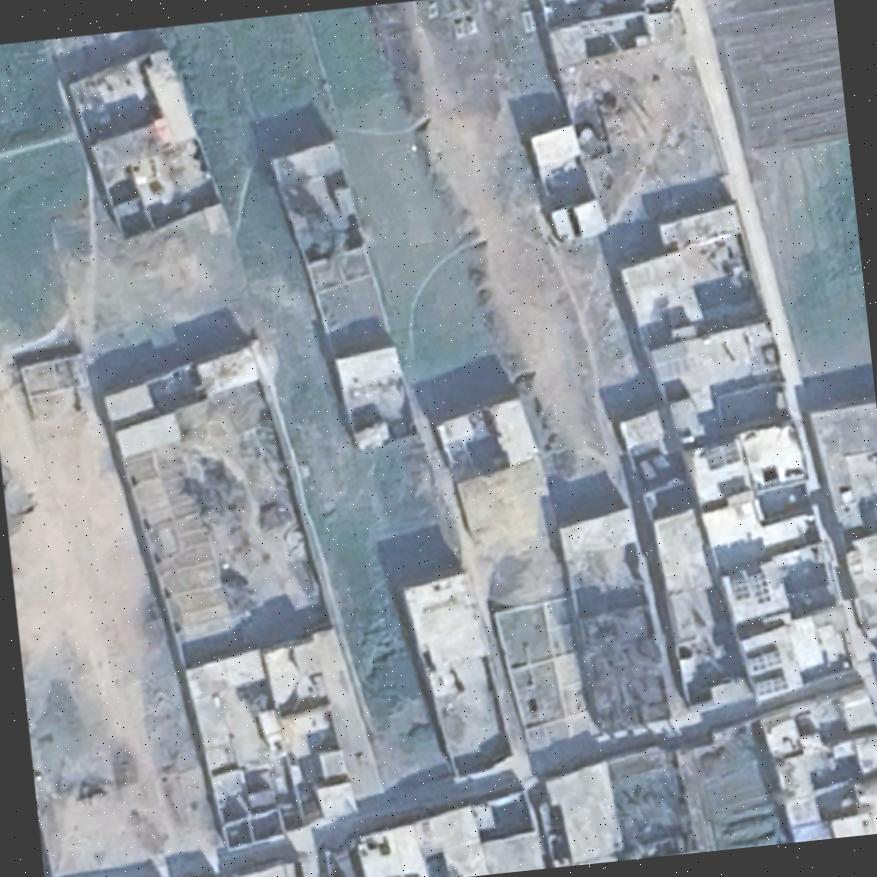Solarpanel: (726, 564, 774, 608), (702, 437, 742, 471), (750, 669, 792, 698), (745, 644, 785, 674)
